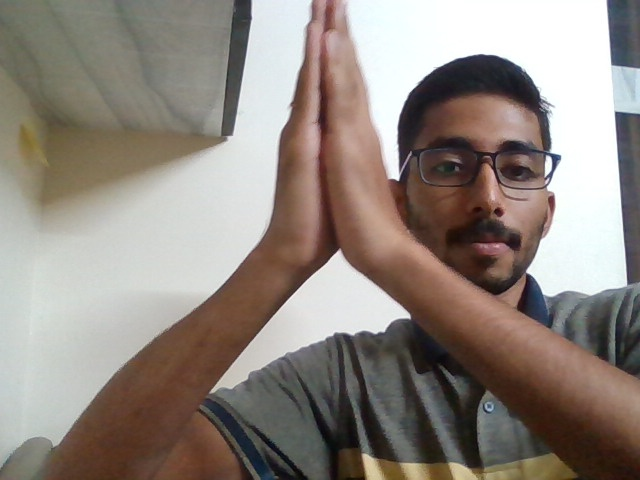Thank You: (252, 4, 416, 319)
